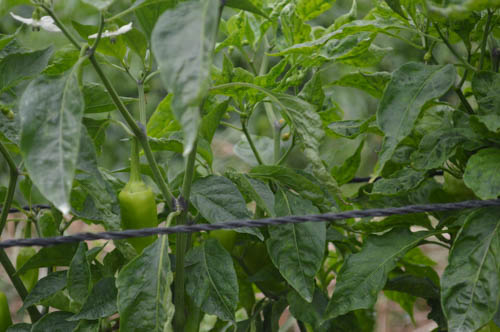ChiliPepper: (117, 189, 163, 247)
